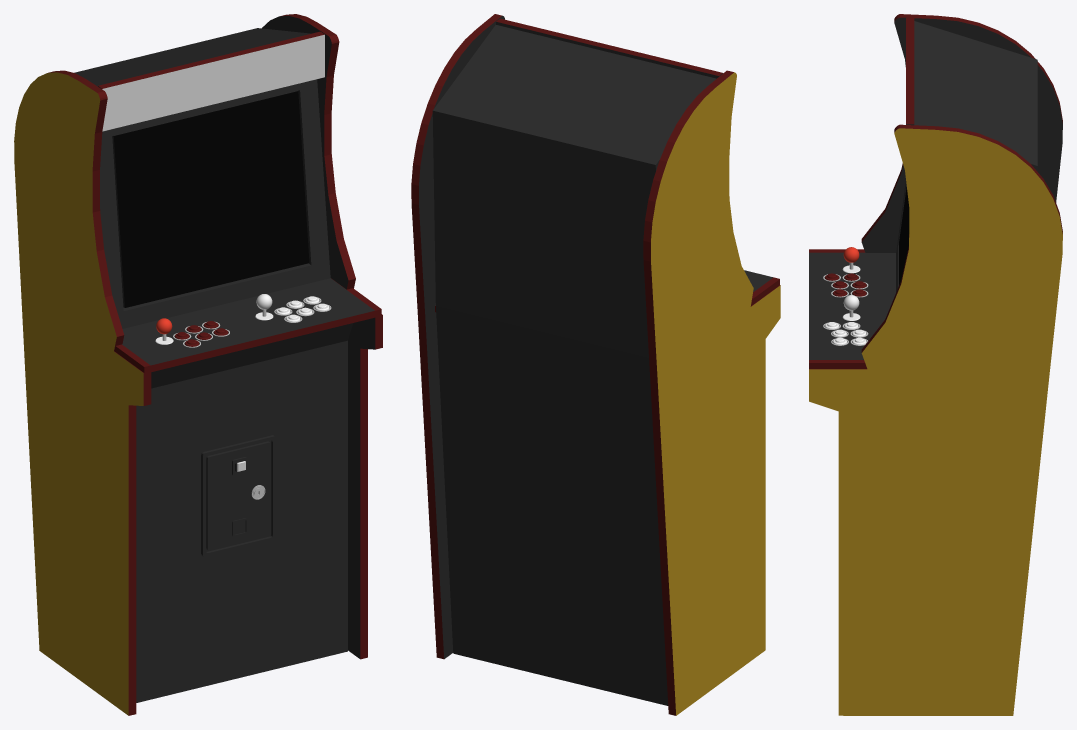
The model's file is Tower_Pac_Man.fbx.
3 views of the same model, side by side, from view 1: azimuth 30°, elevation 25°; view 2: azimuth 150°, elevation 25°; view 3: azimuth 270°, elevation 25° (orthographic). The views are drawn at different scales.
Parts seen in each view (by area): view 1: Cube, Cube.005, Cube.001, Cube.003, Cube.002; view 2: Cube, Cube.005, Cube.001; view 3: Cube.001, Cube, Cube.005.
Boxes of the visible parts, left/top/right/bottom form: Cube: left=74, top=28, right=381, bottom=702; Cube.005: left=14, top=70, right=151, bottom=715; Cube.001: left=262, top=14, right=382, bottom=659; Cube.003: left=206, top=441, right=271, bottom=550; Cube.002: left=201, top=435, right=276, bottom=557; Cube: left=432, top=18, right=779, bottom=705; Cube.005: left=643, top=70, right=780, bottom=715; Cube.001: left=411, top=14, right=504, bottom=659; Cube.001: left=809, top=124, right=1062, bottom=715; Cube: left=809, top=18, right=1037, bottom=368; Cube.005: left=861, top=14, right=1062, bottom=252.
Size of the model in its own units: 202 by 486 by 190.
